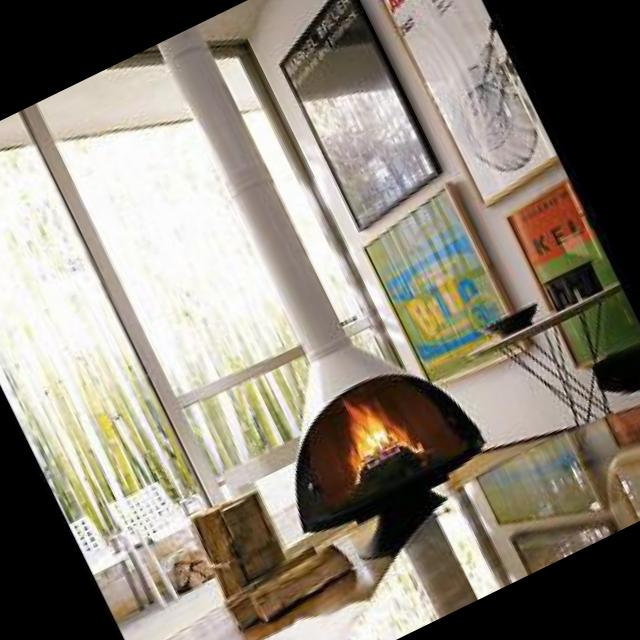fire: (321, 378, 431, 498)
